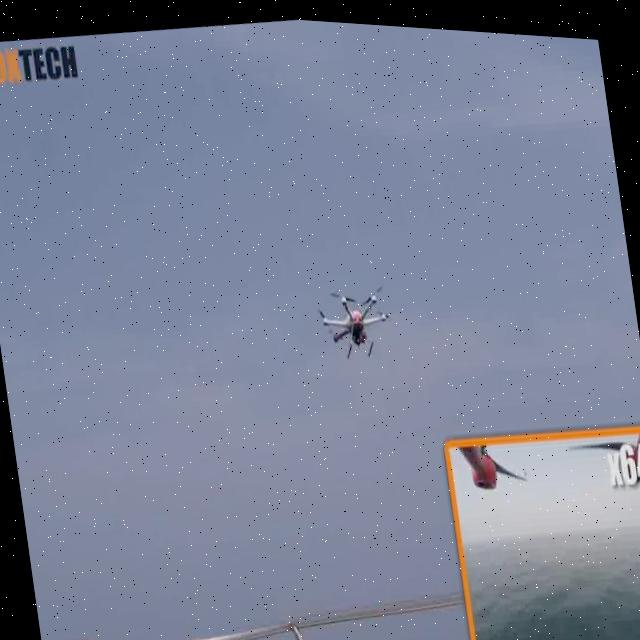drone: (305, 252, 408, 378)
